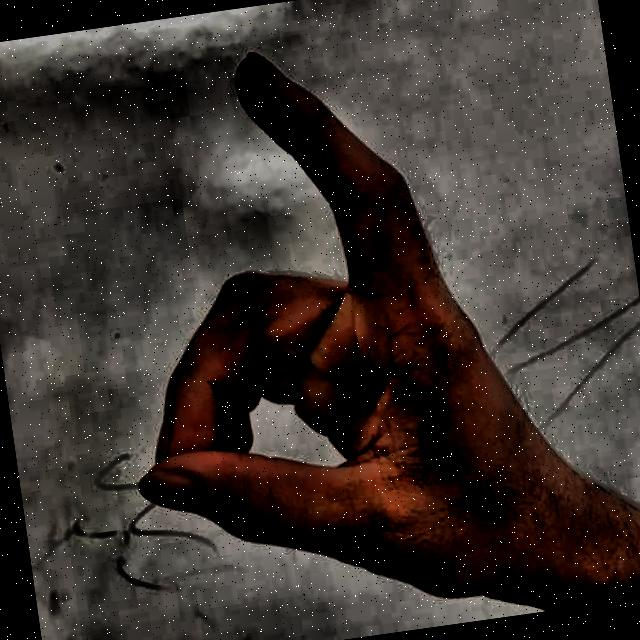Dha: (66, 0, 561, 640)
